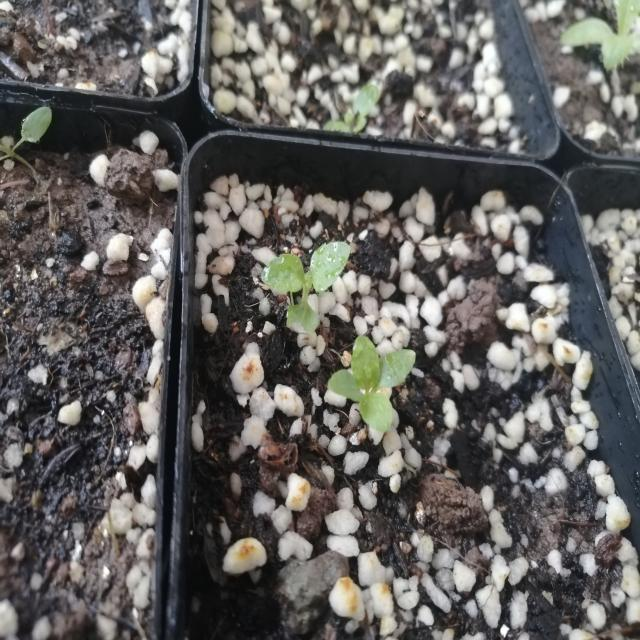billygoat_weed: (250, 213, 373, 362), (322, 319, 438, 449)
